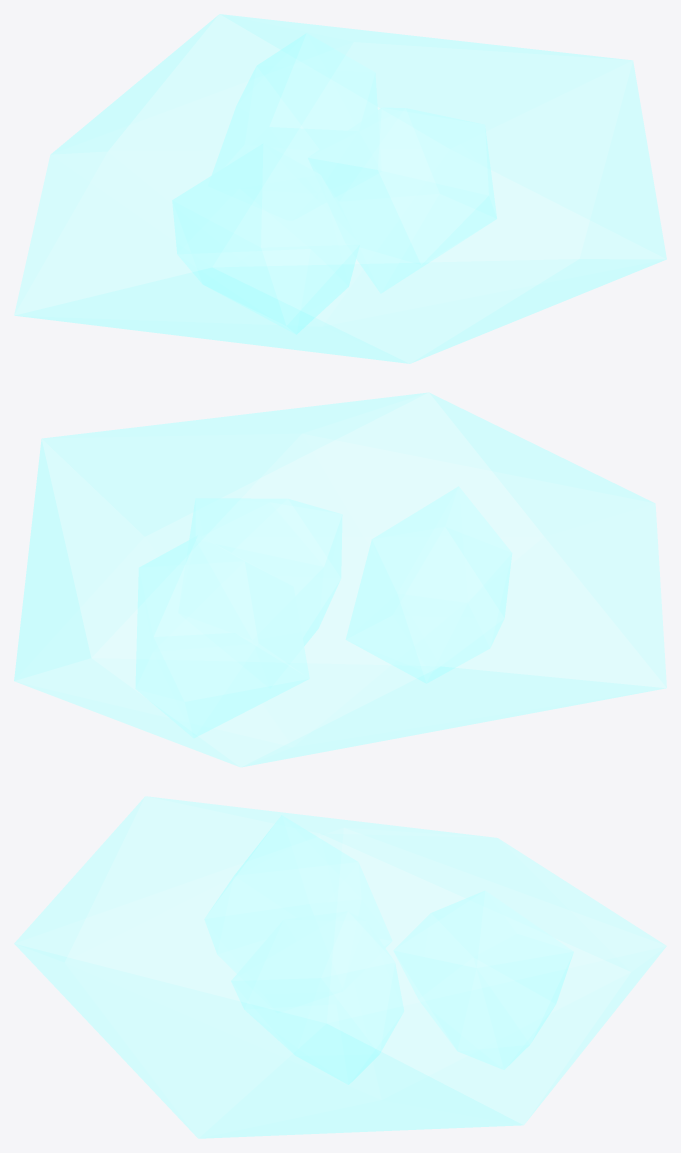
The model's file is GH_Ore_PileLarge.fbx.
3 renders of one model, top to bottom at view 1: azimuth 30°, elevation 25°; view 2: azimuth 150°, elevation 25°; view 3: azimuth 270°, elevation 25°, orthographic. The views are drawn at different scales.
Parts seen in each view (by area): view 1: SM_Ore_PileLarge; view 2: SM_Ore_PileLarge; view 3: SM_Ore_PileLarge.
Boxes of the visible parts, x1,y1,x2,y2 form: SM_Ore_PileLarge: [14, 14, 666, 363]; SM_Ore_PileLarge: [14, 392, 666, 767]; SM_Ore_PileLarge: [14, 796, 666, 1138].
Size of the model in its own units: 1.32 by 0.6009 by 1.28.
